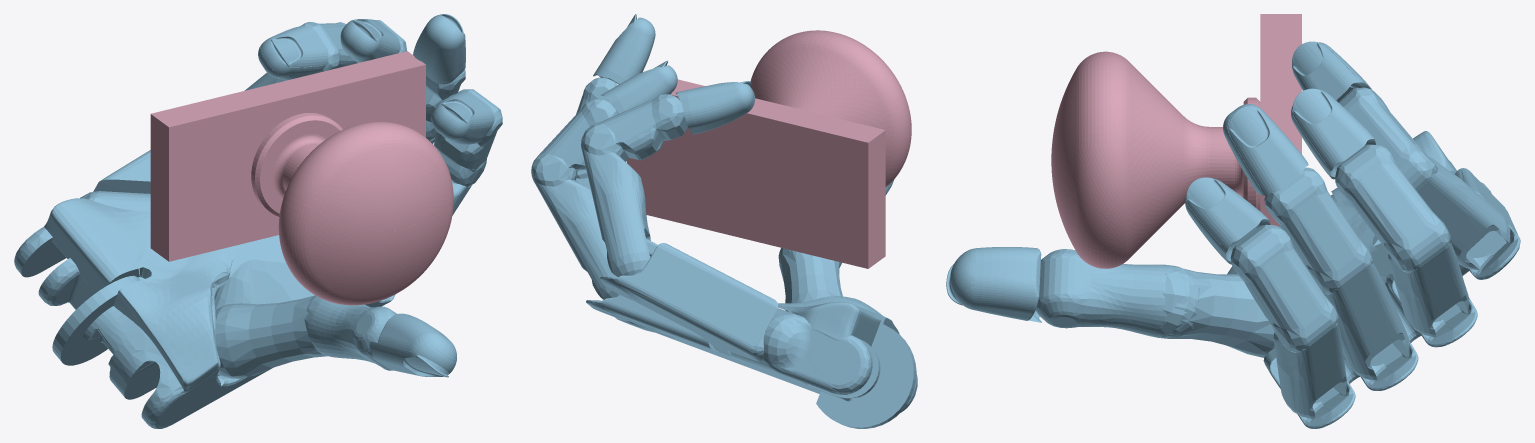
3 views of the same model, side by side, from view 1: azimuth 30°, elevation 25°; view 2: azimuth 150°, elevation 25°; view 3: azimuth 270°, elevation 25° (orthographic). The views are drawn at different scales.
Visible parts, largest first — view 1: world; view 2: world; view 3: world.
Boxes of the visible parts, <box> form: world: <box>14,14,502,428</box>; world: <box>531,14,917,428</box>; world: <box>946,14,1520,428</box>.
Size of the model in its own units: 0.157 by 0.131 by 0.1719.
